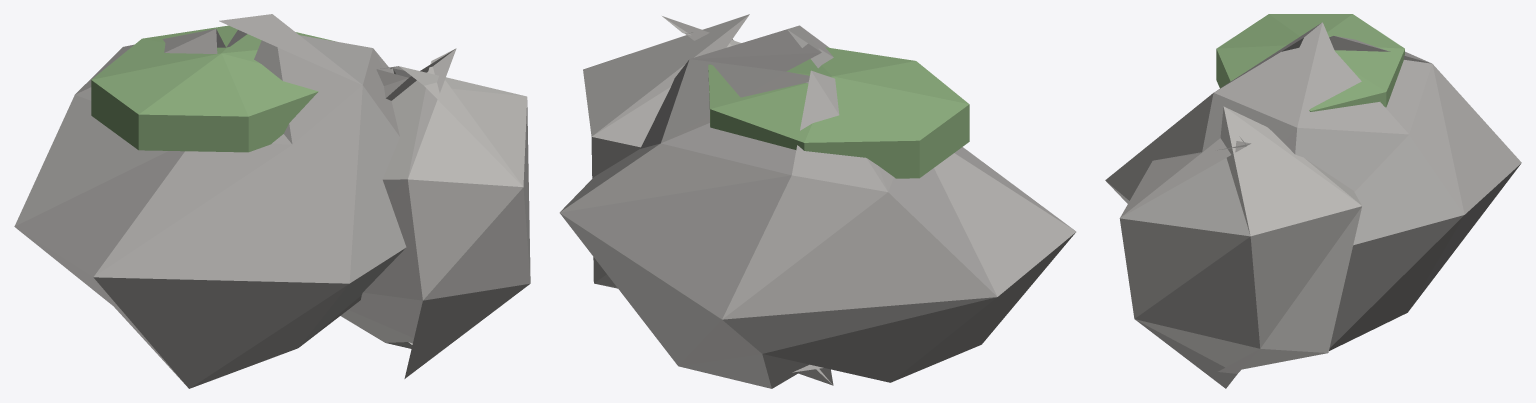
The model's file is valak_rocha_0.glb.
The picture shows the model from 3 angles, left to right: view 1: azimuth 30°, elevation 25°; view 2: azimuth 150°, elevation 25°; view 3: azimuth 270°, elevation 25°; orthographic projection. The views are drawn at different scales.
Visible parts, largest first — view 1: rocha; view 2: rocha; view 3: rocha.
Part boxes in pixels (x1,y1,x2,y2): rocha: [14, 14, 530, 388]; rocha: [559, 14, 1076, 388]; rocha: [1105, 14, 1521, 388].
Bounding box in the file's own units: 1.83 × 1.36 × 1.64.
